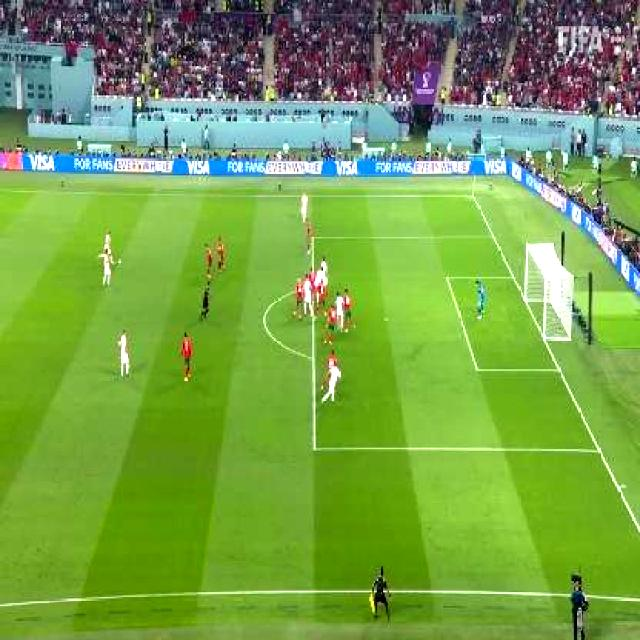bigarea_bottom_inner: (306, 438, 323, 458)
bigarea_bottom_outter: (592, 440, 605, 458)
bigarea_top_inner: (308, 234, 314, 243)
bigarea_top_outter: (490, 231, 496, 240)
bottom_arc_area_intersection: (308, 349, 317, 363)
corner: (470, 192, 476, 200)
smallarea_bottom_inner: (469, 358, 482, 377)
smallarea_bottom_outter: (552, 360, 565, 377)
smallarea_top_inner: (443, 270, 451, 284)
smallarea_top_outter: (508, 269, 517, 283)
